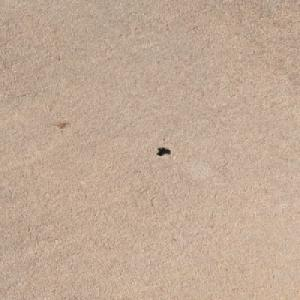BoltWasher: (155, 147, 167, 155)
